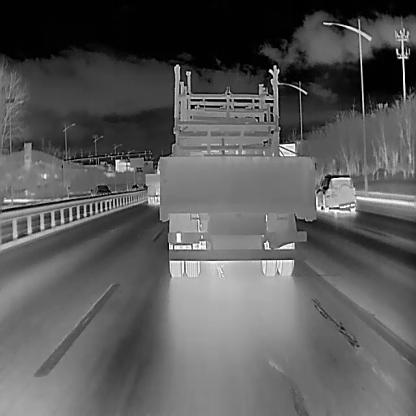car: (313, 173, 357, 212), (89, 184, 113, 200), (130, 181, 138, 191)
truck: (158, 103, 314, 277), (145, 158, 162, 205)
